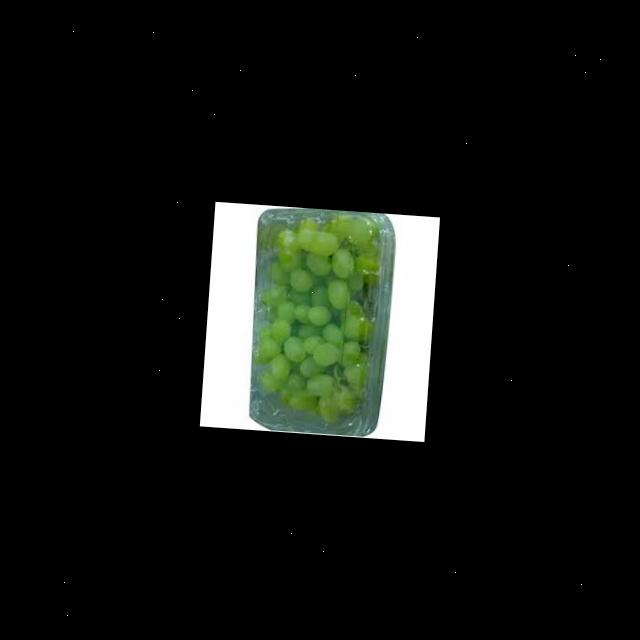grape: (249, 206, 384, 425)
